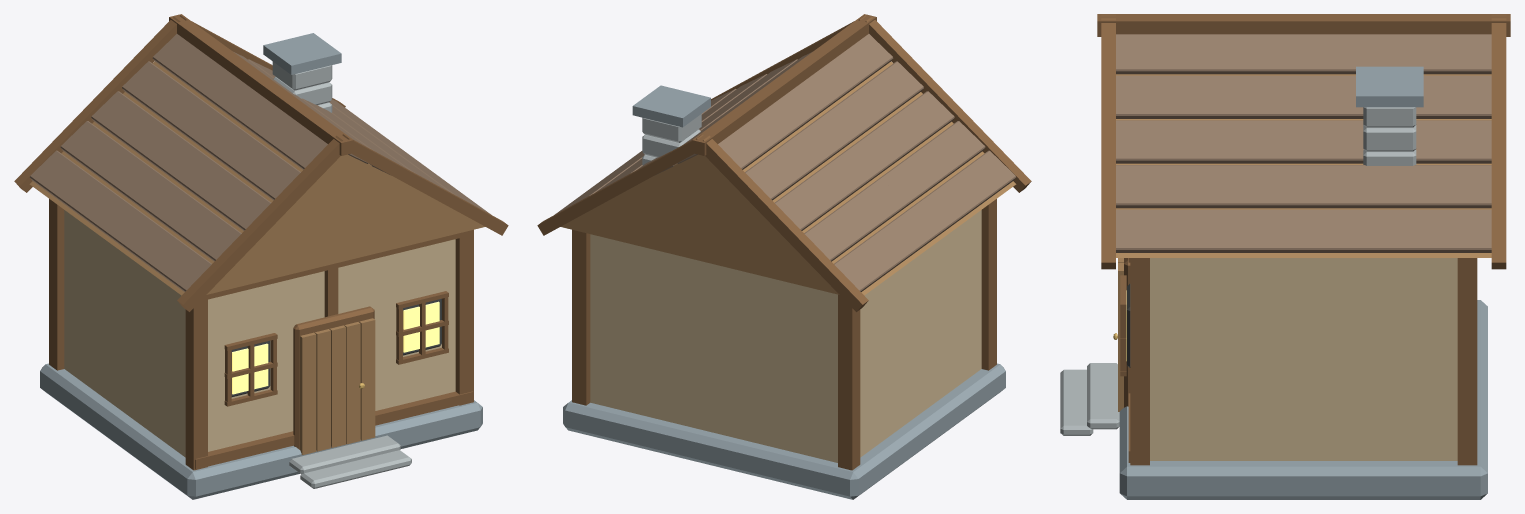
Rendered from HouseBrown.glb.
The picture shows the model from 3 angles, left to right: view 1: azimuth 30°, elevation 25°; view 2: azimuth 150°, elevation 25°; view 3: azimuth 270°, elevation 25°; orthographic projection. The views are drawn at different scales.
Parts seen in each view (by area): view 1: PlasterWalls, Gable, StoneFoundation, Ridge, GableTrim, CornerPost, CornerPost.001, CrossTimber, GableTrim.001, CornerPost.002, GableTrim.002, ChimneyCap (+45 smaller); view 2: PlasterWalls, Gable, StoneFoundation, Ridge, GableTrim.001, CornerPost.002, CornerPost.003, GableTrim, CornerPost, GableTrim.003, ChimneyCap, RoofShingle.014 (+32 smaller); view 3: PlasterWalls, StoneFoundation, Ridge, Gable, CornerPost.003, CornerPost.001, GableTrim.003, GableTrim.002, ChimneyCap, RoofShingle.051, RoofShingle.057, RoofShingle.037 (+32 smaller).
Part boxes in pixels (bbox=[...]): PlasterWalls: bbox=[64, 210, 455, 457]; Gable: bbox=[29, 61, 485, 295]; StoneFoundation: bbox=[40, 363, 482, 499]; Ridge: bbox=[169, 14, 353, 155]; GableTrim: bbox=[177, 135, 342, 311]; CornerPost: bbox=[185, 299, 207, 470]; CornerPost.001: bbox=[455, 229, 473, 405]; CrossTimber: bbox=[195, 391, 473, 469]; GableTrim.001: bbox=[14, 17, 180, 192]; CornerPost.002: bbox=[49, 199, 64, 370]; GableTrim.002: bbox=[342, 134, 508, 235]; ChimneyCap: bbox=[263, 33, 341, 74]; PlasterWalls: bbox=[590, 210, 981, 462]; Gable: bbox=[560, 61, 1016, 295]; StoneFoundation: bbox=[563, 363, 1005, 499]; Ridge: bbox=[692, 14, 876, 155]; GableTrim.001: bbox=[703, 135, 868, 311]; CornerPost.002: bbox=[838, 294, 860, 470]; CornerPost.003: bbox=[572, 229, 590, 405]; GableTrim: bbox=[865, 17, 1031, 192]; CornerPost: bbox=[981, 199, 996, 370]; GableTrim.003: bbox=[537, 134, 703, 235]; ChimneyCap: bbox=[632, 85, 710, 127]; RoofShingle.014: bbox=[849, 129, 902, 177]; PlasterWalls: bbox=[1150, 258, 1457, 460]; StoneFoundation: bbox=[1119, 300, 1487, 499]; Ridge: bbox=[1097, 14, 1510, 36]; Gable: bbox=[1116, 74, 1491, 257]; CornerPost.003: bbox=[1457, 258, 1477, 465]; CornerPost.001: bbox=[1130, 258, 1149, 465]; GableTrim.003: bbox=[1491, 18, 1506, 269]; GableTrim.002: bbox=[1101, 18, 1115, 269]; ChimneyCap: bbox=[1356, 66, 1423, 107]; RoofShingle.051: bbox=[1303, 165, 1367, 208]; RoofShingle.057: bbox=[1303, 209, 1367, 252]; RoofShingle.037: bbox=[1177, 75, 1240, 118].
Size of the model in its own units: 11.02 by 10.79 by 11.
